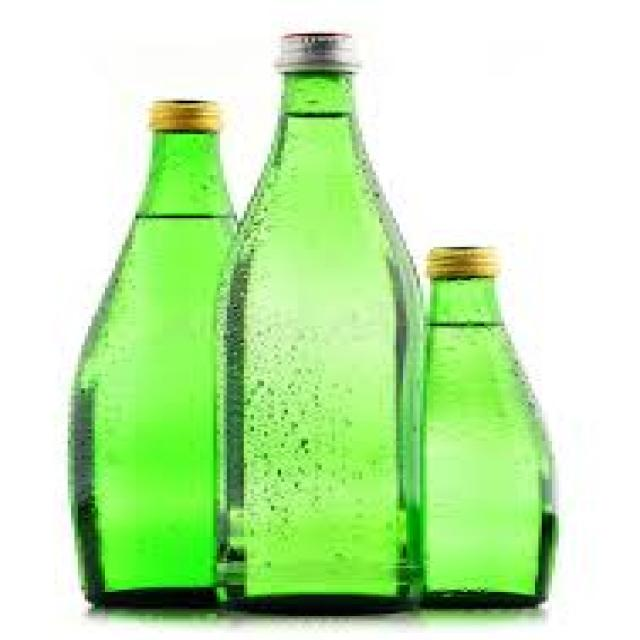glass: (210, 70, 423, 611), (64, 130, 237, 607), (410, 276, 555, 607)
metal: (268, 29, 366, 69), (146, 96, 224, 137), (423, 240, 491, 280)
